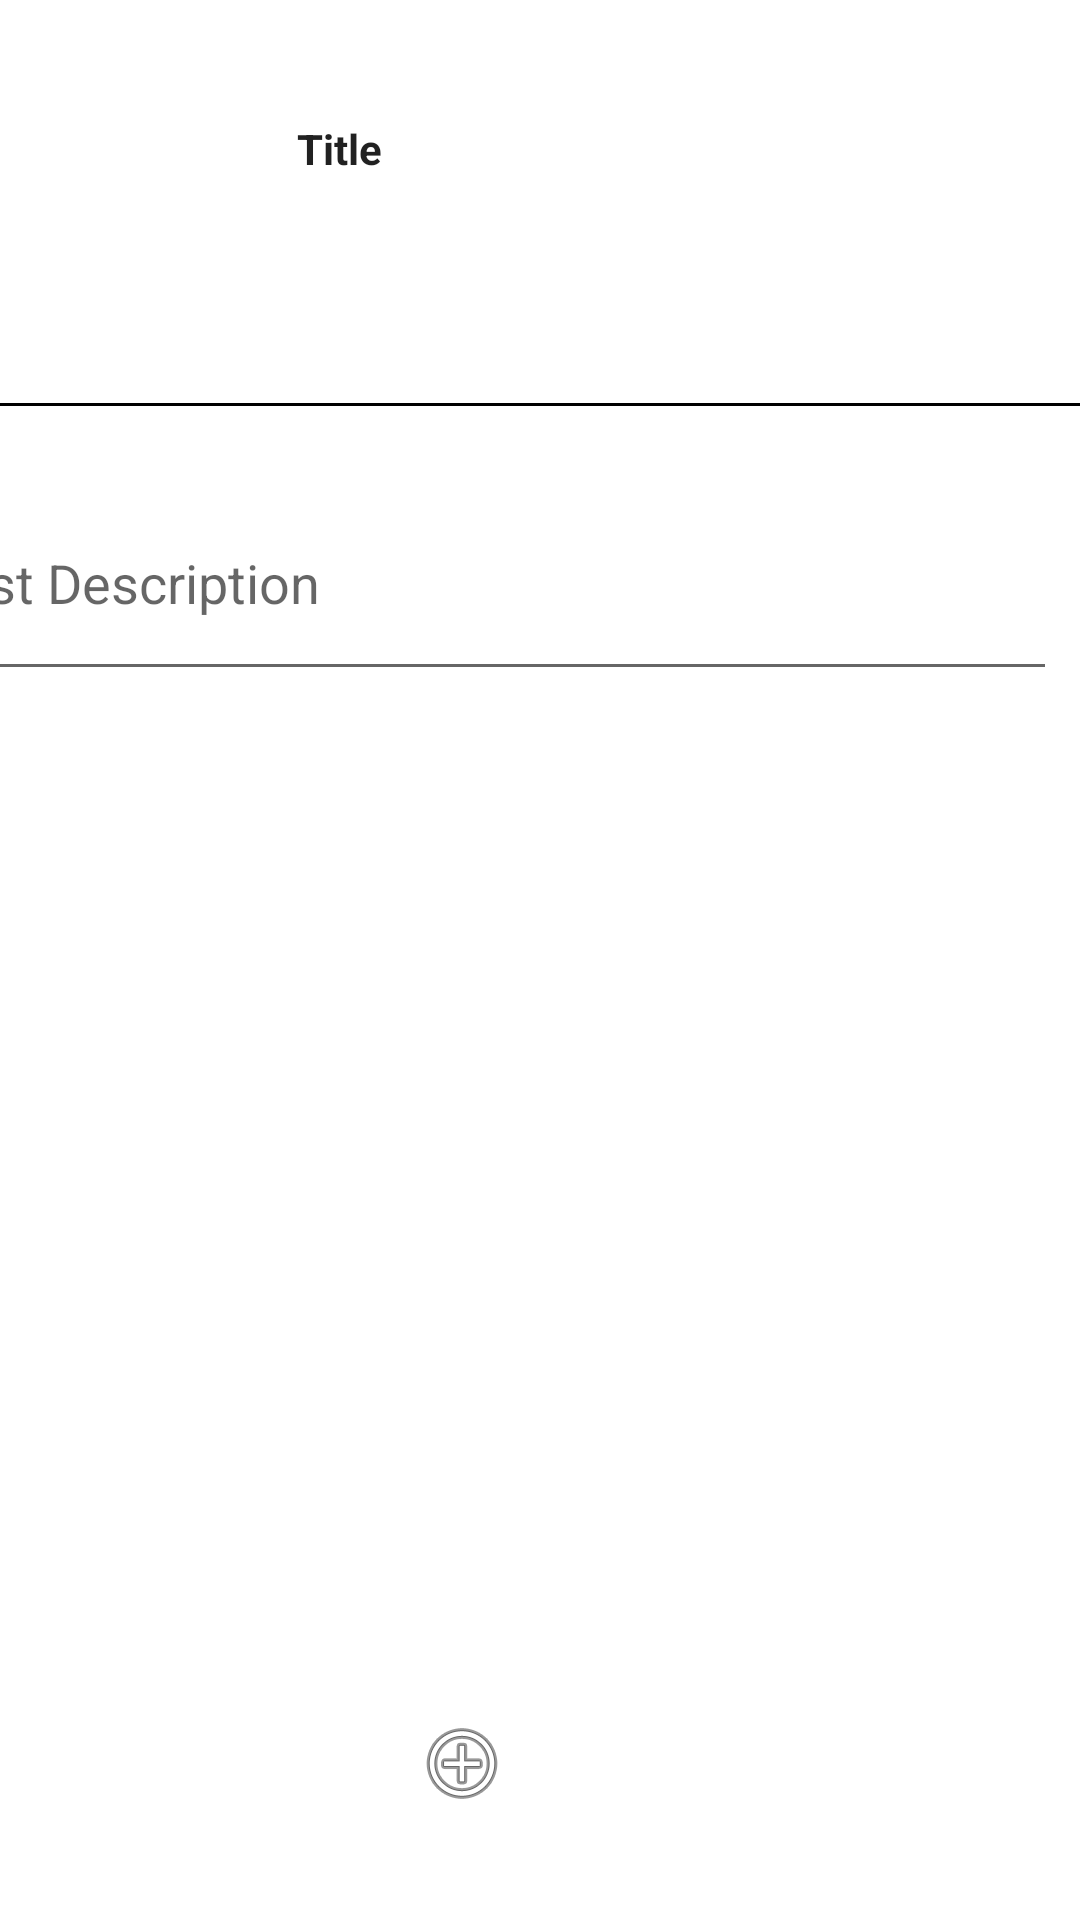

Named icons in this screenshot (1080px x 1920px) and their bounding boxes, region(x1, y1, x2, y2):
add: region(426, 1728, 498, 1799)
